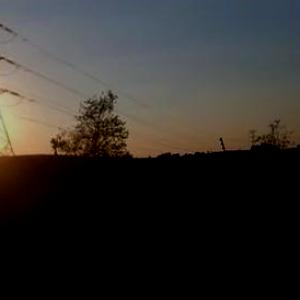follow: (101, 164, 173, 299)
